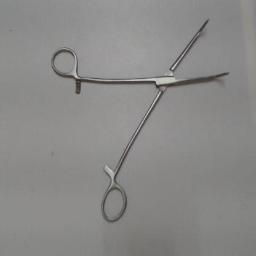Lahey Forceps: (44, 12, 234, 228)
